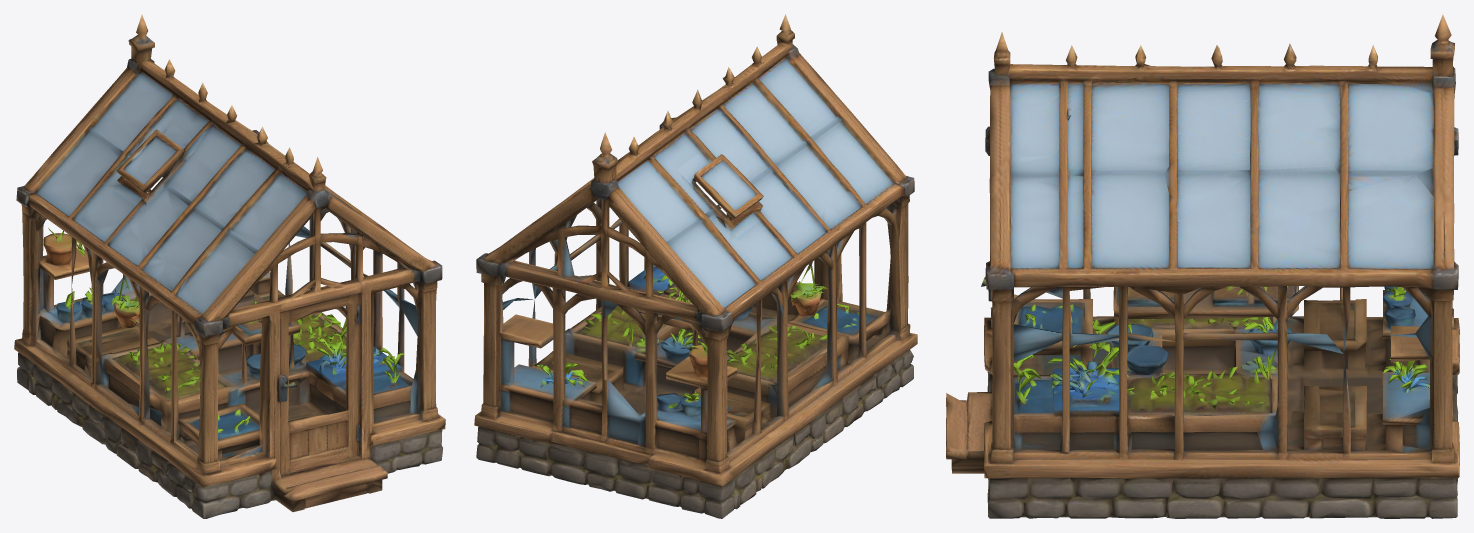
Rendered from greenhouse.glb.
3 renders of one model, left to right at view 1: azimuth 30°, elevation 25°; view 2: azimuth 150°, elevation 25°; view 3: azimuth 270°, elevation 25°, orthographic. The views are drawn at different scales.
Visible parts, largest first — view 1: tripo_node_7790dda1-3c86-4af3-a7d4-0d00fab9cbaa; view 2: tripo_node_7790dda1-3c86-4af3-a7d4-0d00fab9cbaa; view 3: tripo_node_7790dda1-3c86-4af3-a7d4-0d00fab9cbaa.
Part boxes in pixels (x1,y1,x2,y2): tripo_node_7790dda1-3c86-4af3-a7d4-0d00fab9cbaa: [14, 14, 445, 518]; tripo_node_7790dda1-3c86-4af3-a7d4-0d00fab9cbaa: [474, 14, 917, 518]; tripo_node_7790dda1-3c86-4af3-a7d4-0d00fab9cbaa: [946, 14, 1459, 518].
Size of the model in its own units: 0.686 by 0.9289 by 1.
Materials: 1 (1 with a texture image).
